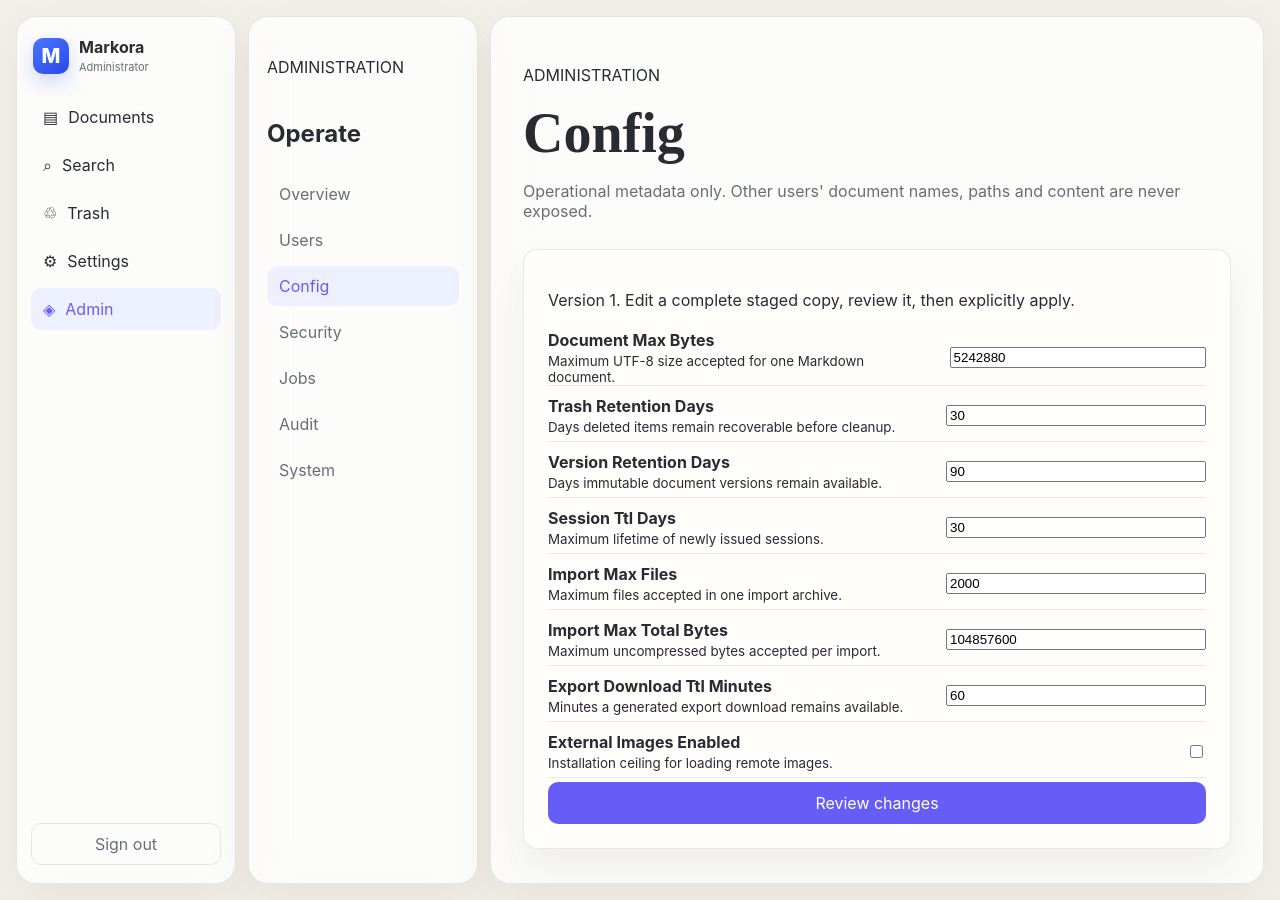
Scenario: Phase 7 settings and admin UI › requires review before explicitly applying a complete admin config
Expected: the text "Version 1. Edit a complete staged copy, review it, then explicitly apply." is shown, [548,290,1075,310]
Click the button "Review changes".
click(877, 803)  # box [548,782,1206,824]
(page scrolled)
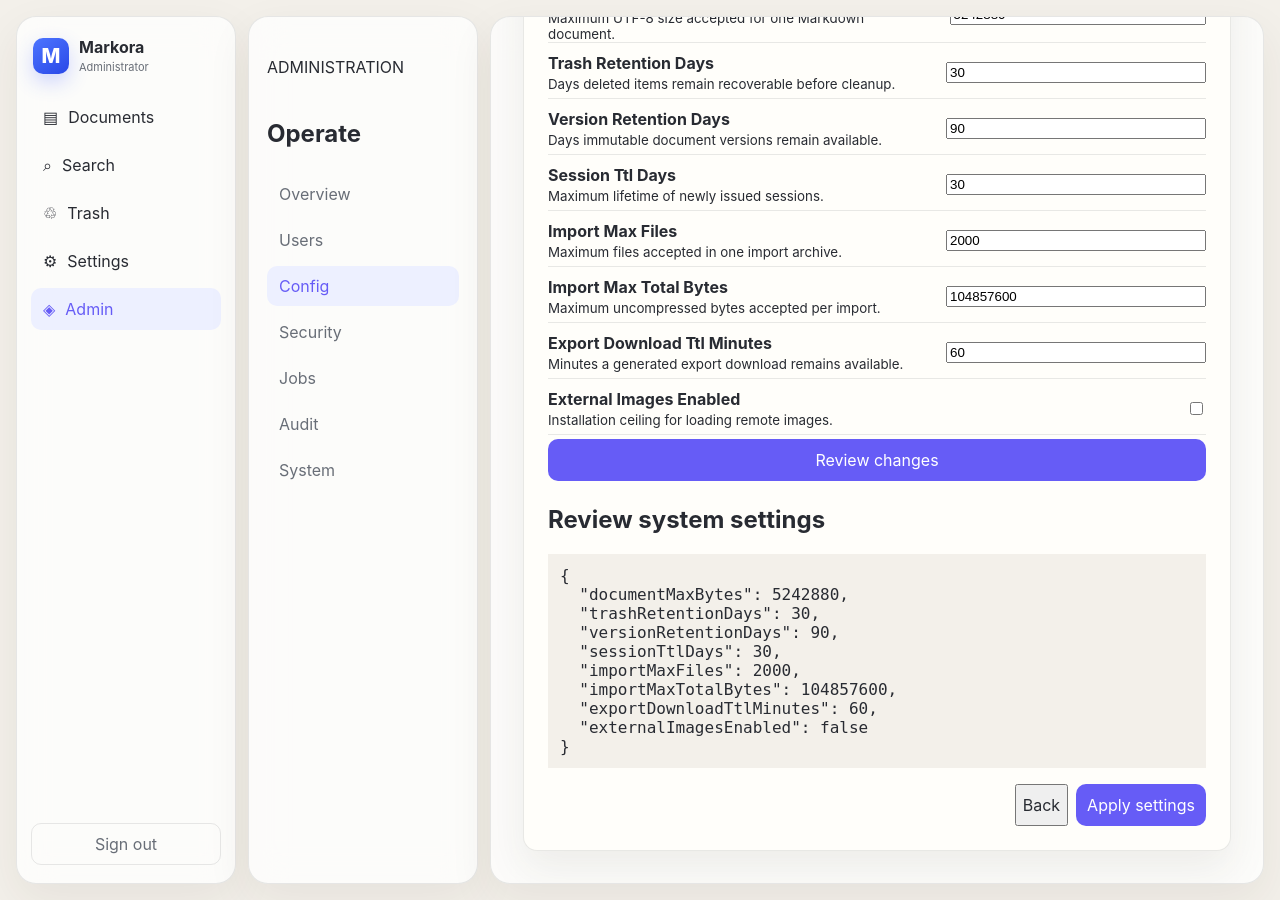
Expected: the dialog "Review system settings" is shown, [548,505,1206,826]
Click the button "Apply settings".
click(1141, 805)  # box [1076,784,1206,826]
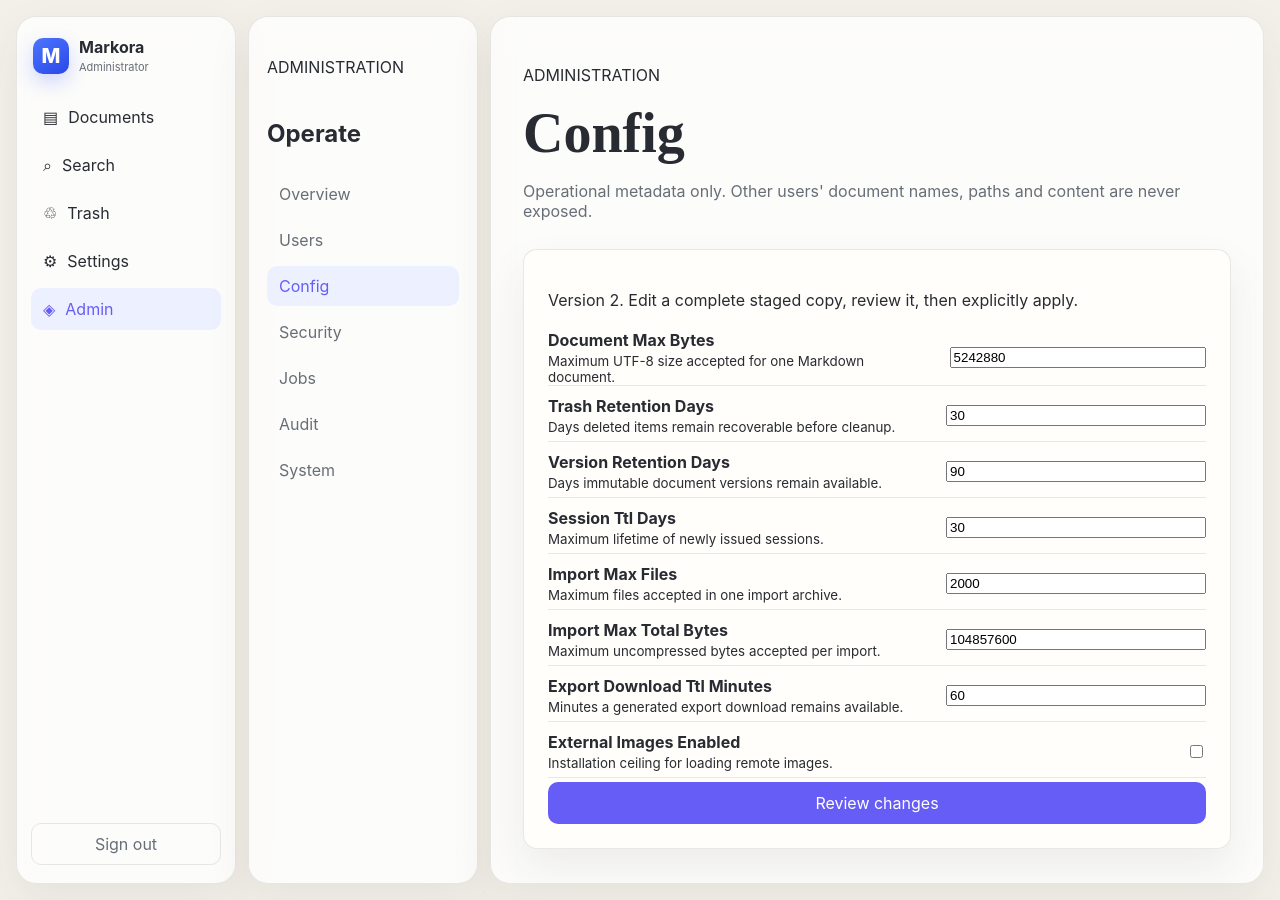
Expected: the text "Version 2. Edit a complete staged copy, review it, then explicitly apply." is shown, [548,290,1078,310]
